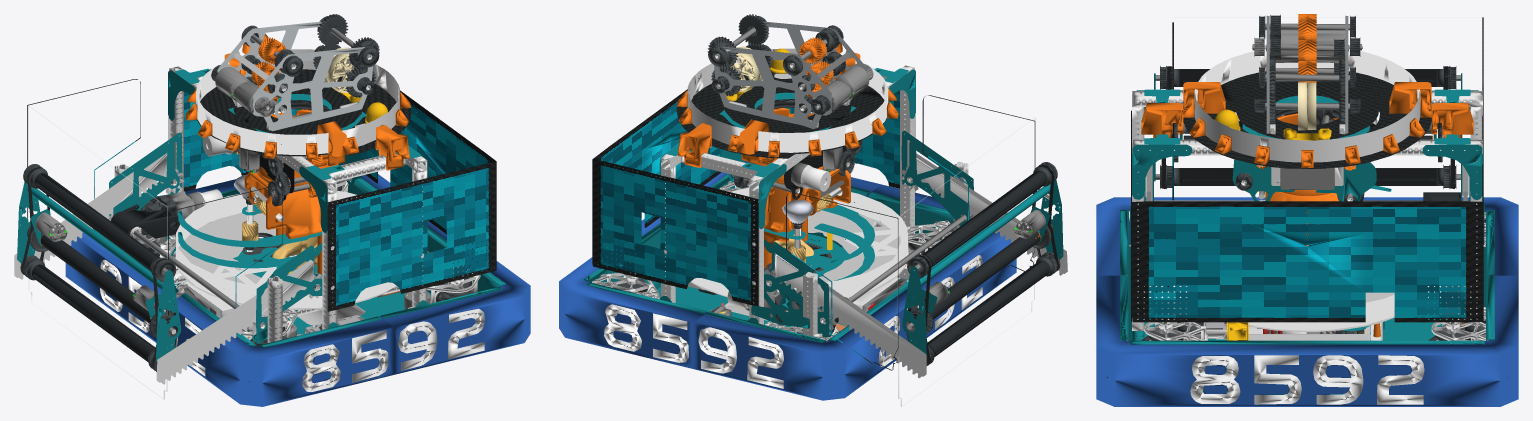
The model's file is robot.glb.
3 views of the same model, side by side, from view 1: azimuth 30°, elevation 25°; view 2: azimuth 150°, elevation 25°; view 3: azimuth 270°, elevation 25° (orthographic). The views are drawn at different scales.
Parts seen in each view (by area): view 1: chassis CAD (×10), intake CAD (×8), turret-hood CAD (×4), feeder-rotor CAD (×4), turret CAD (×4), intake-roller-783 CAD, intake-roller-941 CAD, intake-roller-913 CAD, module-front-right-fork CAD; view 2: chassis CAD (×10), intake CAD (×8), turret-hood CAD (×4), feeder-rotor CAD (×4), turret CAD (×5), intake-roller-783 CAD, intake-roller-941 CAD, intake-roller-913 CAD, module-front-left-fork CAD, module-rear-right-fork CAD, shooter-roller-418 CAD; view 3: chassis CAD (×11), turret-hood CAD (×4), turret CAD (×4), intake CAD (×4), intake-roller-941 CAD, module-front-right-fork CAD, module-front-left-fork CAD, intake-roller-783 CAD, feeder-rotor CAD, shooter-roller-418 CAD, shooter-roller-426 CAD.
Part boxes in pixels (left/top/right/bottom): chassis CAD (×10): left=30, top=34, right=530, bottom=406; intake CAD (×8): left=14, top=79, right=316, bottom=399; turret-hood CAD (×4): left=211, top=14, right=379, bottom=130; feeder-rotor CAD (×4): left=178, top=171, right=322, bottom=286; turret CAD (×4): left=228, top=79, right=366, bottom=206; intake-roller-783 CAD: left=34, top=173, right=160, bottom=270; intake-roller-941 CAD: left=32, top=264, right=155, bottom=362; intake-roller-913 CAD: left=40, top=235, right=150, bottom=323; module-front-right-fork CAD: left=405, top=265, right=480, bottom=325; chassis CAD (×10): left=559, top=43, right=1050, bottom=400; intake CAD (×8): left=727, top=95, right=1067, bottom=406; turret-hood CAD (×4): left=707, top=14, right=873, bottom=129; feeder-rotor CAD (×4): left=764, top=168, right=906, bottom=280; turret CAD (×5): left=719, top=78, right=862, bottom=199; intake-roller-783 CAD: left=922, top=171, right=1046, bottom=266; intake-roller-941 CAD: left=927, top=261, right=1048, bottom=356; intake-roller-913 CAD: left=931, top=231, right=1040, bottom=319; module-front-left-fork CAD: left=593, top=272, right=659, bottom=315; module-rear-right-fork CAD: left=907, top=221, right=977, bottom=267; shooter-roller-418 CAD: left=799, top=37, right=826, bottom=63; chassis CAD (×11): left=1096, top=49, right=1518, bottom=406; turret-hood CAD (×4): left=1252, top=14, right=1361, bottom=133; turret CAD (×4): left=1232, top=81, right=1378, bottom=201; intake CAD (×4): left=1145, top=17, right=1483, bottom=201; intake-roller-941 CAD: left=1179, top=168, right=1436, bottom=185; module-front-right-fork CAD: left=1144, top=308, right=1206, bottom=340; module-front-left-fork CAD: left=1431, top=307, right=1485, bottom=340; intake-roller-783 CAD: left=1179, top=69, right=1436, bottom=86; feeder-rotor CAD: left=1265, top=191, right=1338, bottom=245; shooter-roller-418 CAD: left=1298, top=14, right=1316, bottom=39; shooter-roller-426 CAD: left=1298, top=40, right=1316, bottom=60.
Bounding box in the file's own units: 0.9573 × 0.7274 × 0.8871.
38 materials, 2 textured.
